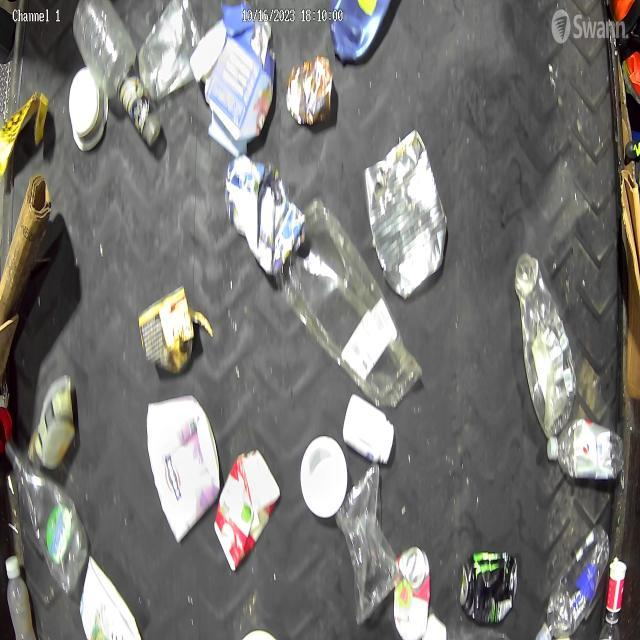can: (363, 130, 448, 300), (138, 286, 194, 374), (458, 550, 518, 628), (284, 55, 334, 128), (394, 545, 431, 640)
non_white_jug: (204, 2, 277, 158), (213, 450, 280, 570)
plastic_bottle: (4, 436, 90, 594), (514, 253, 577, 434), (535, 522, 610, 640), (546, 418, 622, 481)
